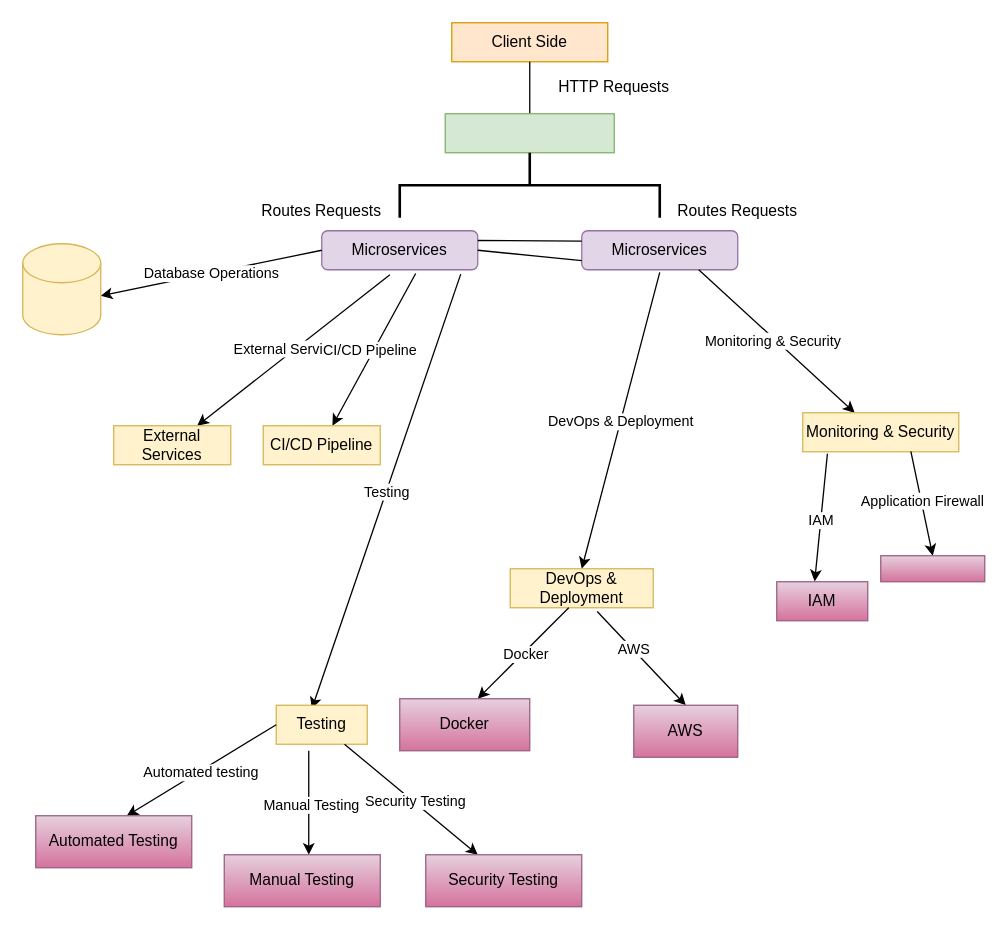
Image size: 1007x929. Some labels were removed from this diagram. The shapes that lost their labels are listed below. From the top down, each one's centre as x and y in pixels, then its label:
the point at 529,132: AWS API gateway
the point at 61,288: MySQL
the point at 932,568: AWS WAF
